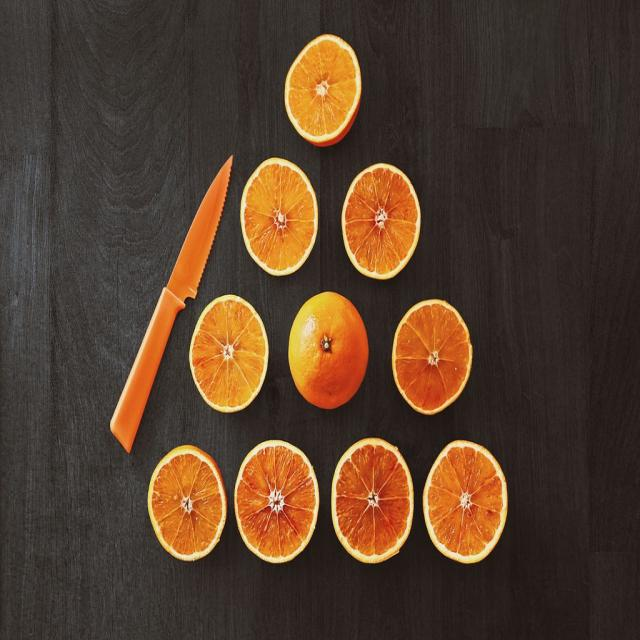orange: (334, 436, 416, 570), (425, 438, 507, 565), (392, 302, 479, 416), (147, 450, 225, 570), (242, 443, 316, 569), (340, 165, 420, 281), (191, 297, 268, 415), (283, 35, 368, 138), (288, 291, 362, 408), (242, 159, 314, 278)
